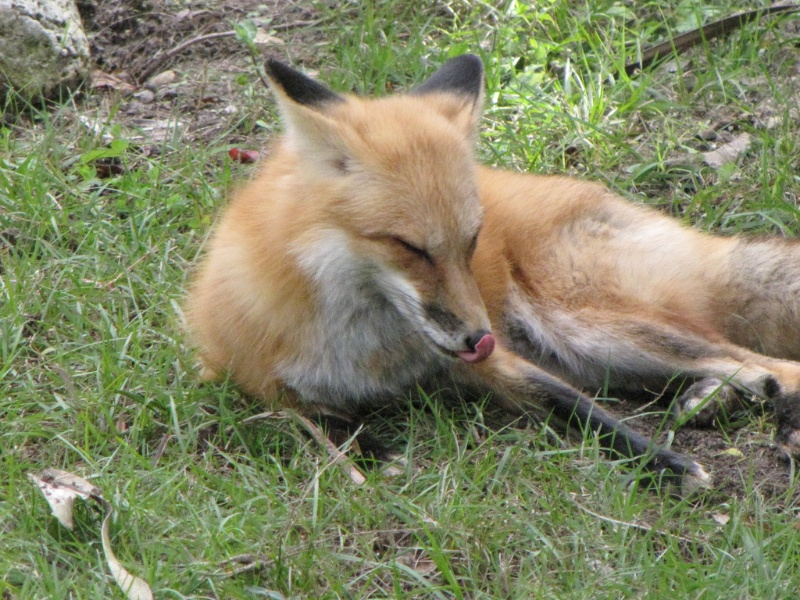fox: (174, 51, 800, 493)
